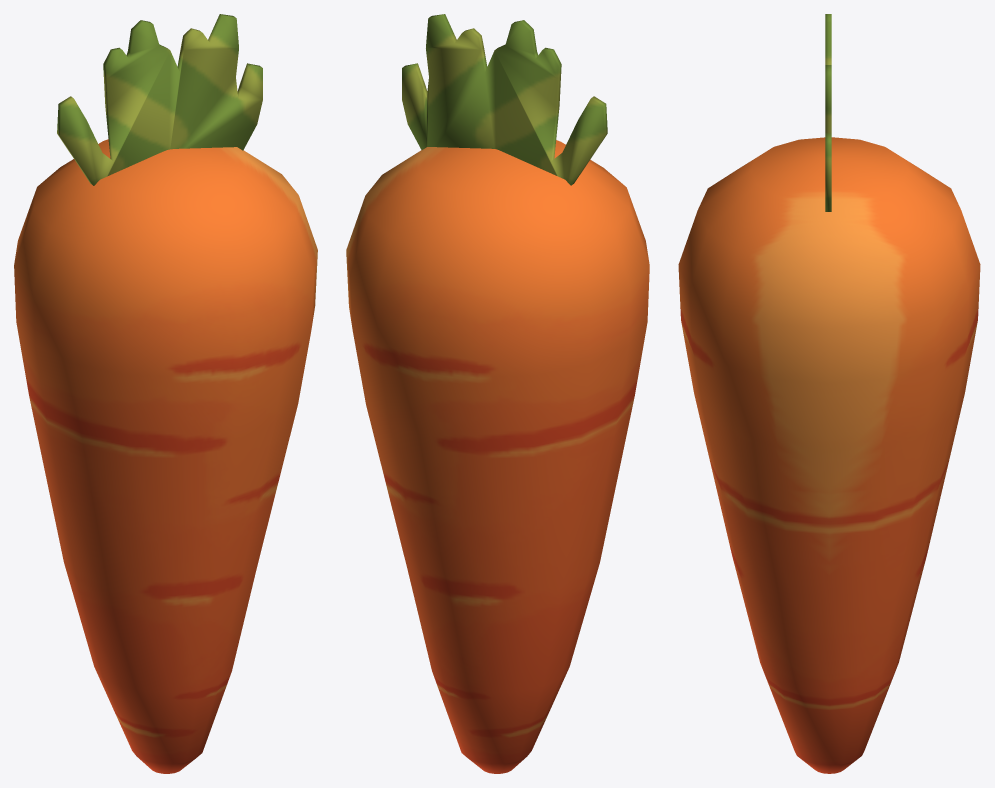
File: Wortel.fbx
3 views of the same model, side by side, from view 1: azimuth 30°, elevation 25°; view 2: azimuth 150°, elevation 25°; view 3: azimuth 270°, elevation 25° (orthographic).
Parts seen in each view (by area): view 1: Plane.018; view 2: Plane.018; view 3: Plane.018.
Part boxes in pixels (left/top/right/bottom): Plane.018: left=14, top=14, right=317, bottom=773; Plane.018: left=346, top=14, right=649, bottom=773; Plane.018: left=678, top=14, right=980, bottom=773.
Size of the model in its own units: 8.99 by 8.99 by 24.51.
1 material, 1 textured.
